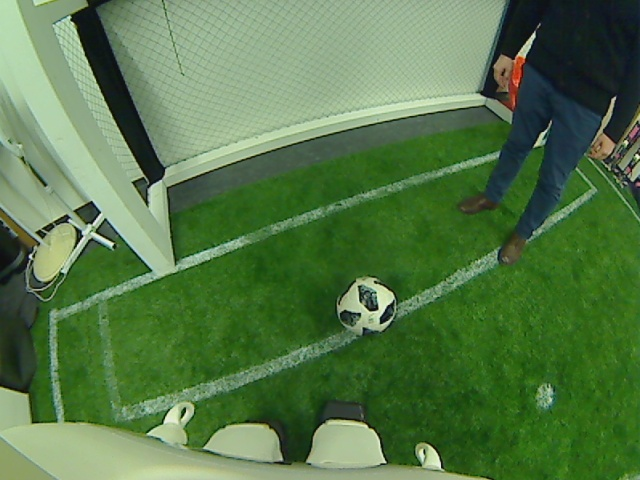ball: (335, 275, 398, 337)
